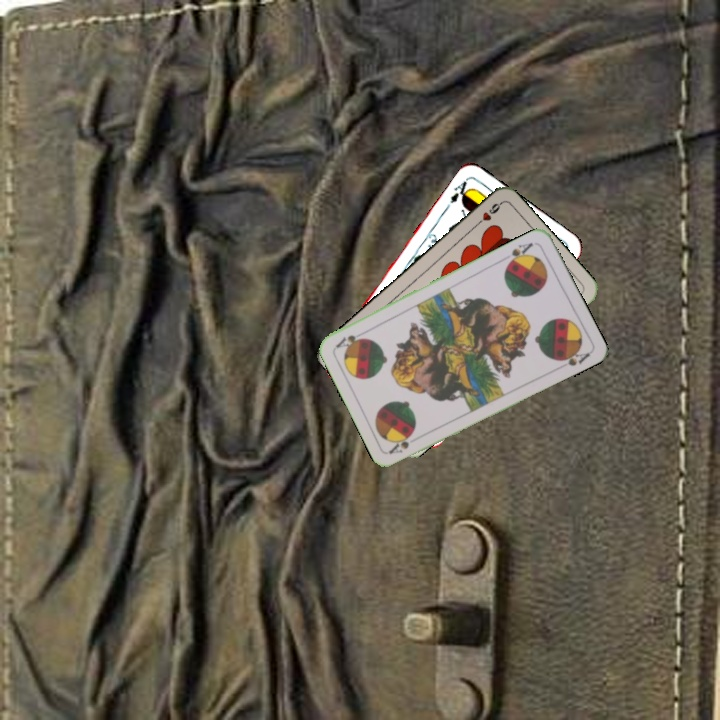EA: (446, 175, 474, 206)
H9: (471, 199, 504, 229)
SA: (503, 238, 536, 268), (385, 430, 416, 456)
